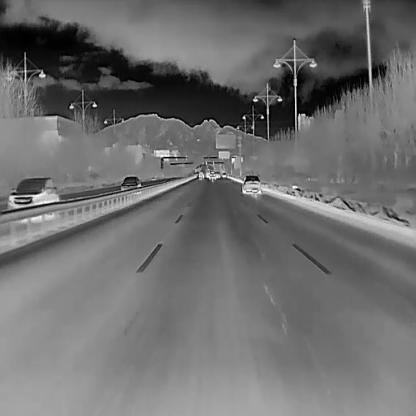car: (6, 175, 58, 211), (242, 174, 261, 194), (120, 175, 141, 191), (209, 171, 216, 181), (205, 169, 211, 178), (215, 171, 221, 178), (199, 171, 204, 178), (222, 172, 226, 177)
